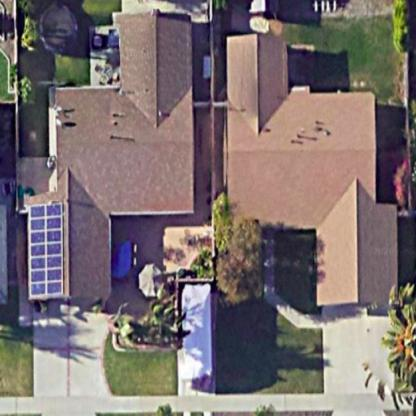solar_panel: (23, 197, 74, 298)
